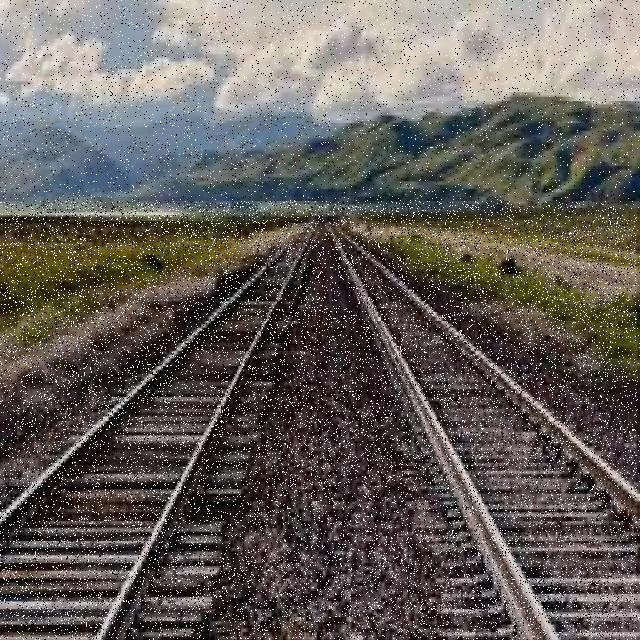rail: (1, 203, 638, 640)
